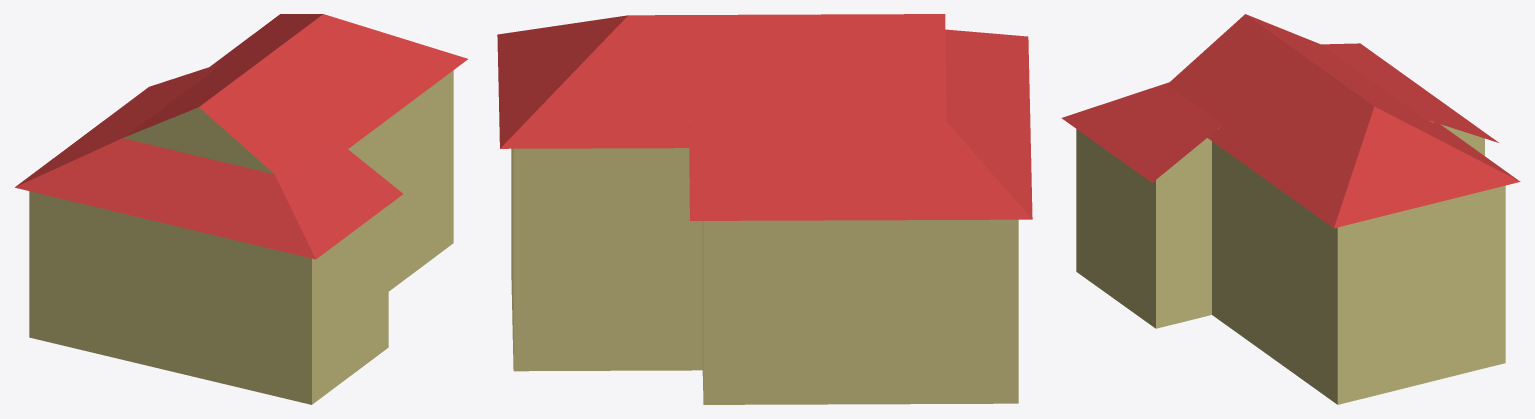
3 renders of one model, left to right at view 1: azimuth 30°, elevation 25°; view 2: azimuth 150°, elevation 25°; view 3: azimuth 270°, elevation 25°, orthographic. The views are drawn at different scales.
Size of the model in its own units: 23.28 by 20.95 by 12.26.
